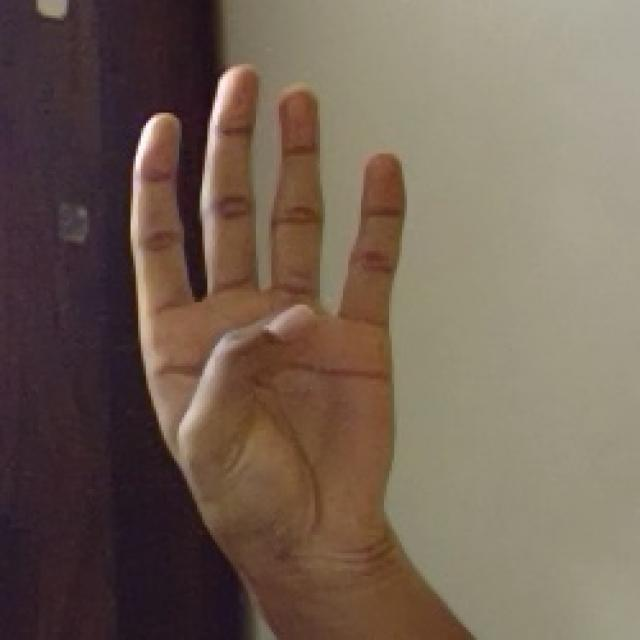Numeric-4: (122, 61, 412, 592)
